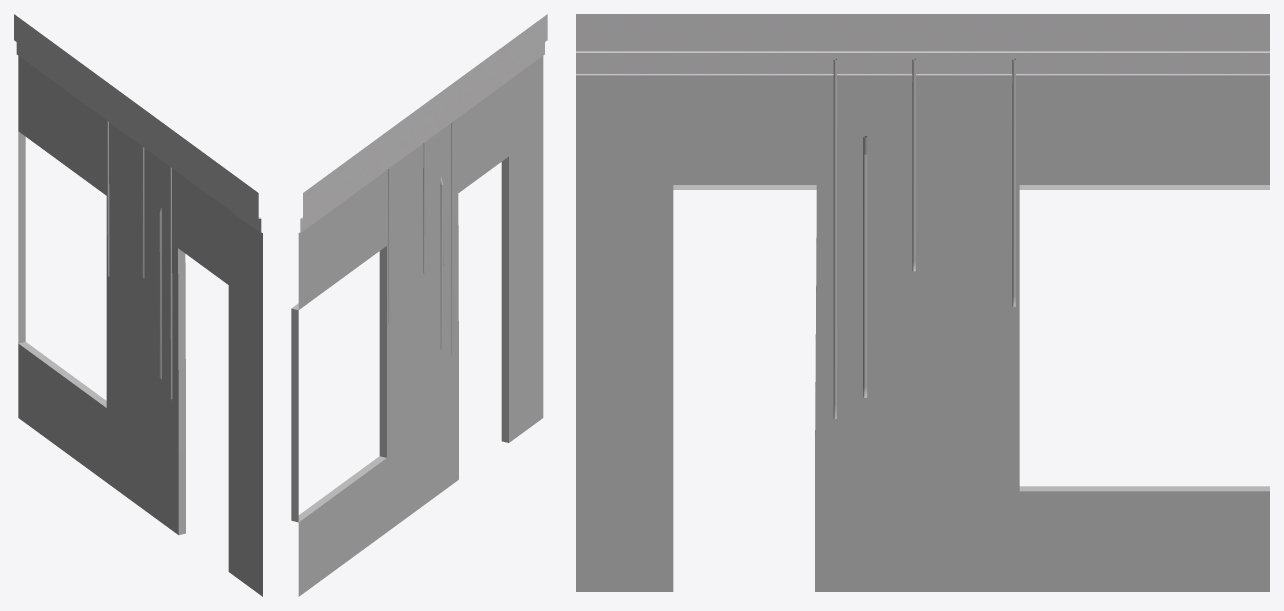
The model's file is SM_Wall_Brick_1.fbx.
3 renders of one model, left to right at view 1: azimuth 30°, elevation 25°; view 2: azimuth 150°, elevation 25°; view 3: azimuth 270°, elevation 25°, orthographic. The views are drawn at different scales.
Visible parts, largest first — view 1: SM_Wall_Brick_1; view 2: SM_Wall_Brick_1; view 3: SM_Wall_Brick_1.
Part boxes in pixels (x1=…): SM_Wall_Brick_1: x1=14, y1=14, x2=262, y2=596; SM_Wall_Brick_1: x1=291, y1=14, x2=547, y2=596; SM_Wall_Brick_1: x1=576, y1=14, x2=1269, y2=591.
Size of the model in its own units: 13.43 by 484 by 443.
